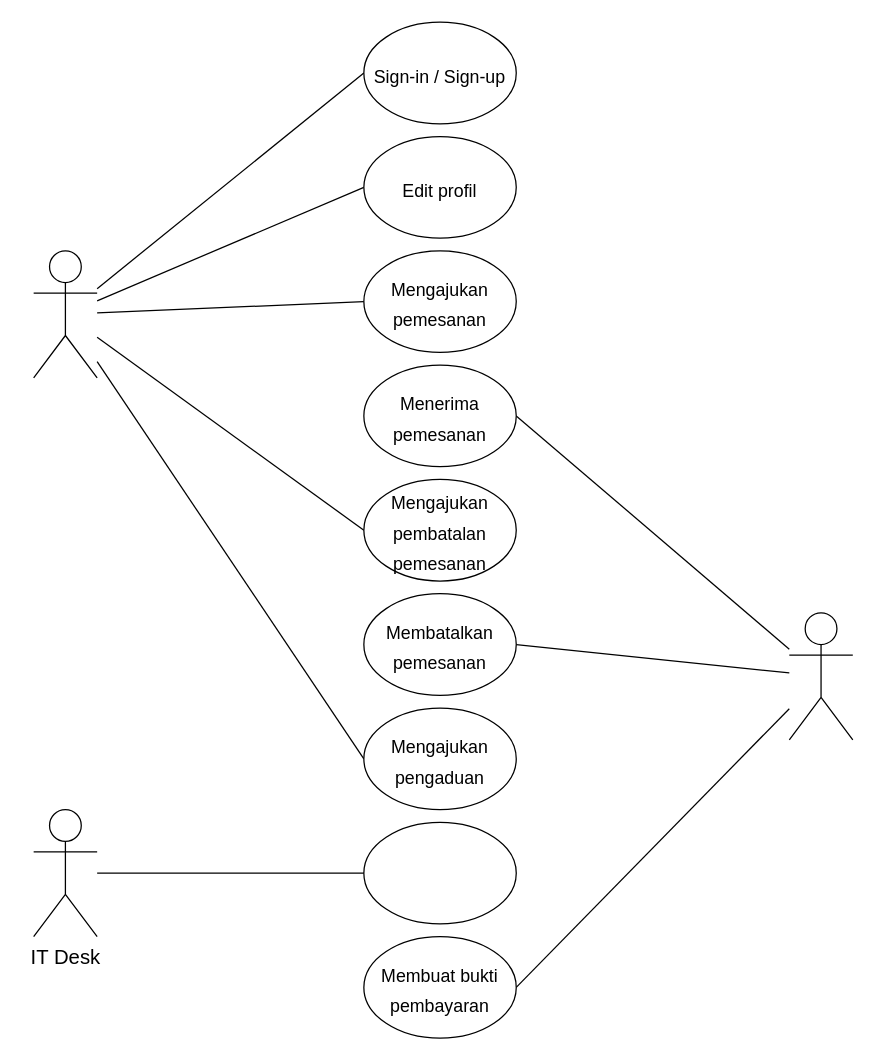
The diagram is 876 pixels wide and 1060 high, and some of its shapes have lost their labels. Here are the shapes that lost their labels. From the top down, the centre of each, then its label:
At (x=64, y=314): "Customer".
At (x=820, y=676): "Courier".
At (x=439, y=872): "Menjawab pengaduan".
